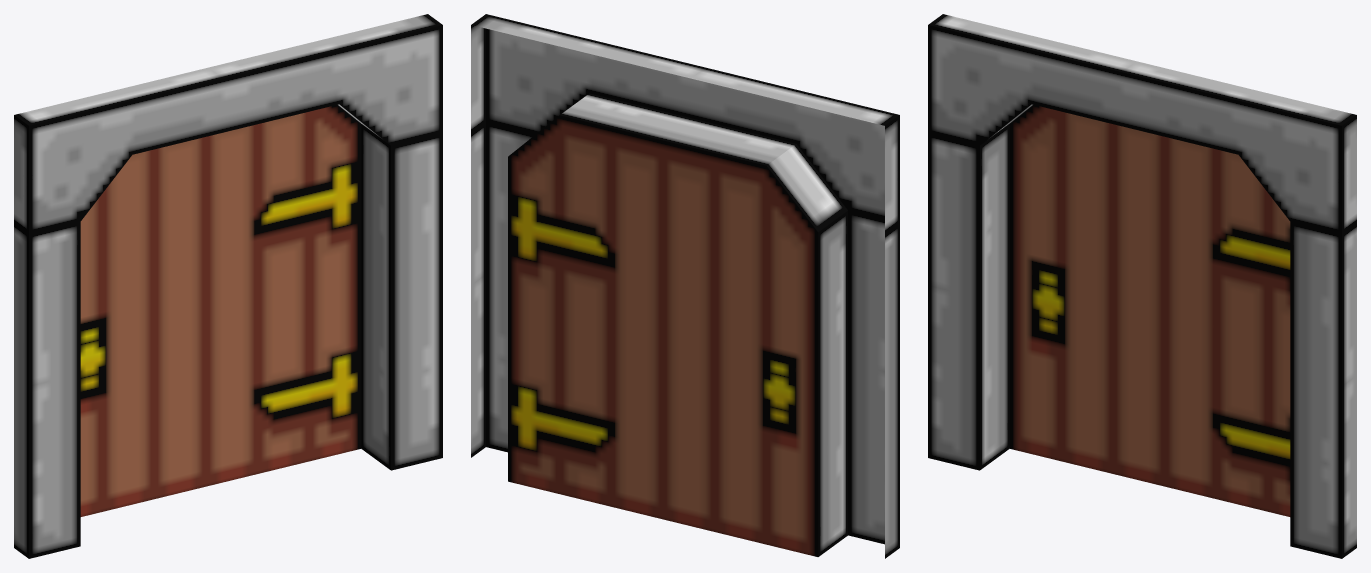
Rendered from arch_door_wood.FBX.
3 renders of one model, left to right at view 1: azimuth 30°, elevation 25°; view 2: azimuth 150°, elevation 25°; view 3: azimuth 330°, elevation 25°, orthographic.
Visible parts, largest first — view 1: arch_door_wood; view 2: arch_door_wood; view 3: arch_door_wood.
Boxes of the visible parts, x1=… form: arch_door_wood: x1=14, y1=14, x2=442, y2=558; arch_door_wood: x1=471, y1=14, x2=899, y2=558; arch_door_wood: x1=928, y1=14, x2=1356, y2=558.
Size of the model in its own units: 4 by 4 by 0.5.
1 material, 1 textured.
